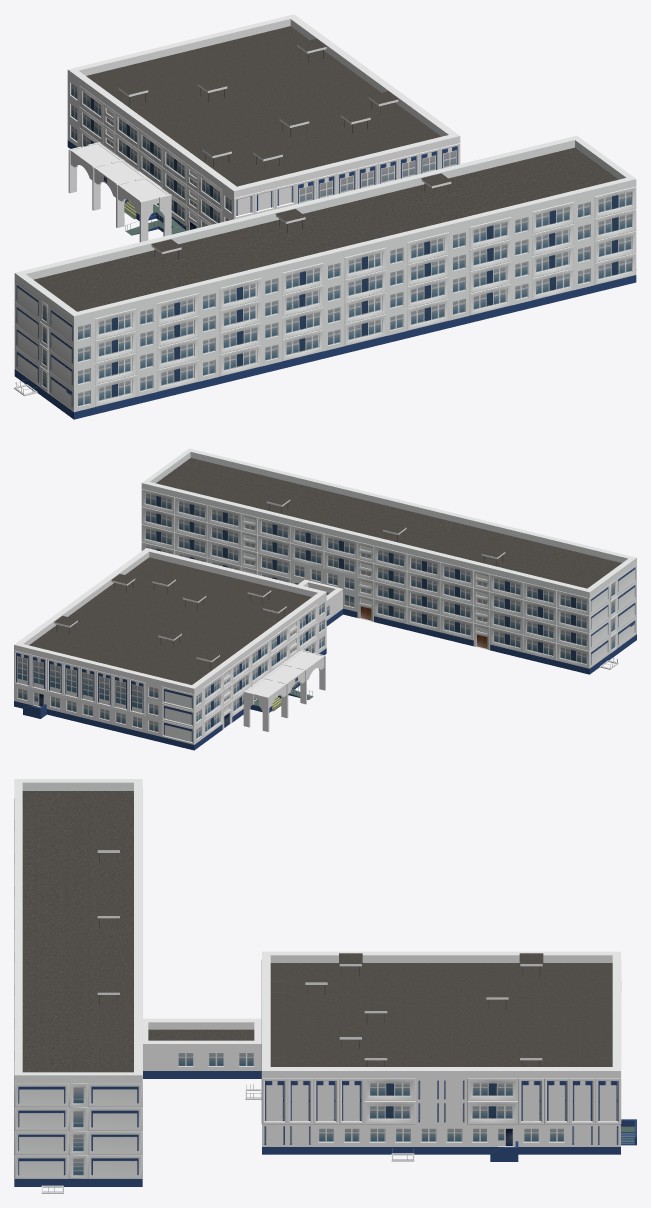
The model's file is jail.glb.
3 views of the same model, one above another, from view 1: azimuth 30°, elevation 25°; view 2: azimuth 150°, elevation 25°; view 3: azimuth 270°, elevation 25° (orthographic). The views are drawn at different scales.
Visible parts, largest first — view 1: _MeshInstance3D_17, _MeshInstance3D_20, _MeshInstance3D_23, _MeshInstance3D_22, _MeshInstance3D_21, _MeshInstance3D_16; view 2: _MeshInstance3D_17, _MeshInstance3D_20, _MeshInstance3D_23, _MeshInstance3D_22, _MeshInstance3D_18, _MeshInstance3D_21, _MeshInstance3D_16; view 3: _MeshInstance3D_20, _MeshInstance3D_17, _MeshInstance3D_18, _MeshInstance3D_22, _MeshInstance3D_16, _MeshInstance3D_21.
Boxes of the visible parts, x1=… form: _MeshInstance3D_17: x1=14, y1=135, x2=636, y2=419; _MeshInstance3D_20: x1=67, y1=14, x2=460, y2=230; _MeshInstance3D_23: x1=68, y1=142, x2=171, y2=241; _MeshInstance3D_22: x1=118, y1=38, x2=451, y2=262; _MeshInstance3D_21: x1=118, y1=44, x2=451, y2=254; _MeshInstance3D_16: x1=124, y1=199, x2=185, y2=235; _MeshInstance3D_17: x1=141, y1=448, x2=636, y2=674; _MeshInstance3D_20: x1=14, y1=548, x2=326, y2=750; _MeshInstance3D_23: x1=243, y1=649, x2=325, y2=731; _MeshInstance3D_22: x1=54, y1=495, x2=505, y2=668; _MeshInstance3D_18: x1=298, y1=579, x2=342, y2=625; _MeshInstance3D_21: x1=54, y1=499, x2=505, y2=662; _MeshInstance3D_16: x1=23, y1=681, x2=313, y2=718; _MeshInstance3D_20: x1=261, y1=951, x2=621, y2=1154; _MeshInstance3D_17: x1=14, y1=779, x2=142, y2=1186; _MeshInstance3D_18: x1=143, y1=1018, x2=261, y2=1078; _MeshInstance3D_22: x1=97, y1=839, x2=543, y2=1066; _MeshInstance3D_16: x1=490, y1=1119, x2=636, y2=1161; _MeshInstance3D_21: x1=97, y1=850, x2=542, y2=1060.
Bounding box in the file's own units: 6 × 1.06 × 5.09.
Materials: 9 (6 with a texture image).
